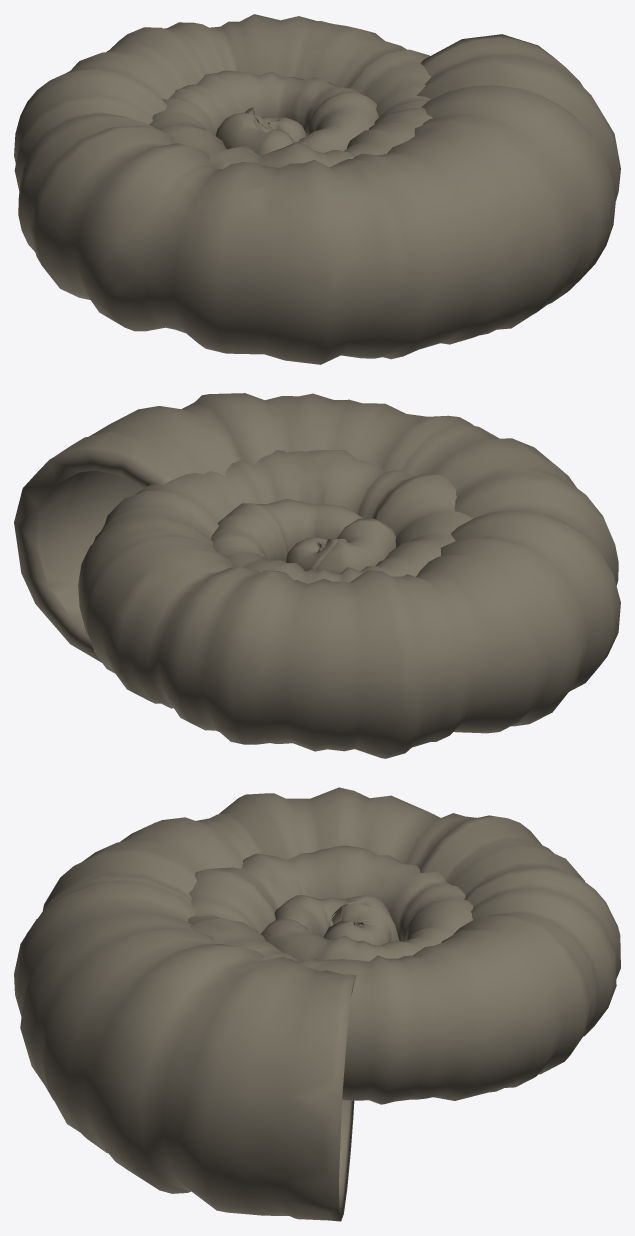
Rendered from seashell4.fbx.
3 views of the same model, one above another, from view 1: azimuth 30°, elevation 25°; view 2: azimuth 150°, elevation 25°; view 3: azimuth 270°, elevation 25° (orthographic). The views are drawn at different scales.
Visible parts, largest first — view 1: Cube.001; view 2: Cube.001; view 3: Cube.001.
Boxes of the visible parts, bbox=[...] form: Cube.001: bbox=[14, 14, 620, 364]; Cube.001: bbox=[14, 393, 620, 758]; Cube.001: bbox=[14, 787, 620, 1221].
Bounding box in the file's own units: 276 × 108 × 249.
